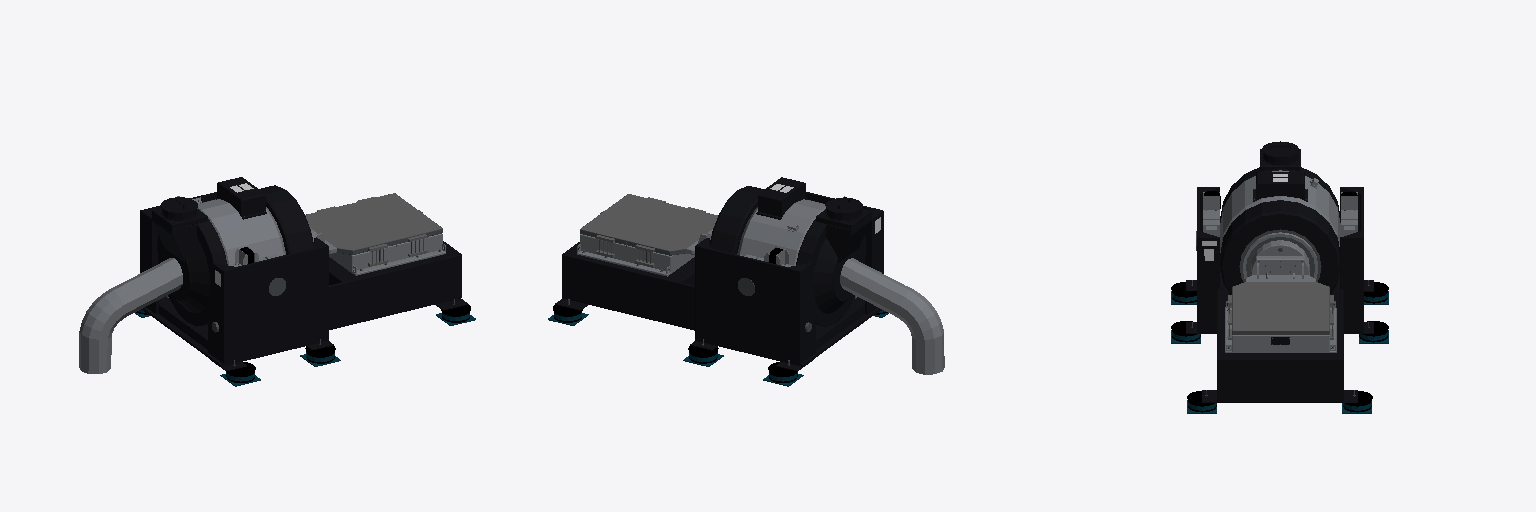
Rendered from 08ZDT_HT.obj.
3 views of the same model, side by side, from view 1: azimuth 30°, elevation 25°; view 2: azimuth 150°, elevation 25°; view 3: azimuth 270°, elevation 25° (orthographic).
Parts seen in each view (by area): view 1: Matel_03, Matel_02, PartA_03, Matel_05, Matel_01, Matel_Green; view 2: Matel_03, Matel_02, PartA_03, Matel_05, Matel_01, Matel_Green; view 3: Matel_03, Matel_02, PartA_03, Matel_05, Matel_01, Matel_Green.
Part boxes in pixels (left/top/right/bottom): Matel_03: left=140, top=177, right=468, bottom=370; Matel_02: left=79, top=196, right=445, bottom=373; PartA_03: left=305, top=193, right=442, bottom=266; Matel_05: left=136, top=247, right=470, bottom=382; Matel_01: left=212, top=193, right=454, bottom=365; Matel_Green: left=135, top=310, right=475, bottom=386; Matel_03: left=555, top=177, right=883, bottom=371; Matel_02: left=577, top=196, right=944, bottom=374; PartA_03: left=581, top=194, right=717, bottom=267; Matel_05: left=553, top=197, right=887, bottom=382; Matel_01: left=568, top=196, right=881, bottom=365; Matel_Green: left=548, top=310, right=888, bottom=386; Matel_03: left=1186, top=141, right=1373, bottom=402; Matel_02: left=1203, top=170, right=1357, bottom=352; PartA_03: left=1228, top=282, right=1333, bottom=339; Matel_05: left=1171, top=191, right=1388, bottom=412; Matel_01: left=1191, top=189, right=1369, bottom=396; Matel_Green: left=1171, top=291, right=1388, bottom=413.
Size of the model in its own units: 170 by 67.77 by 91.78.